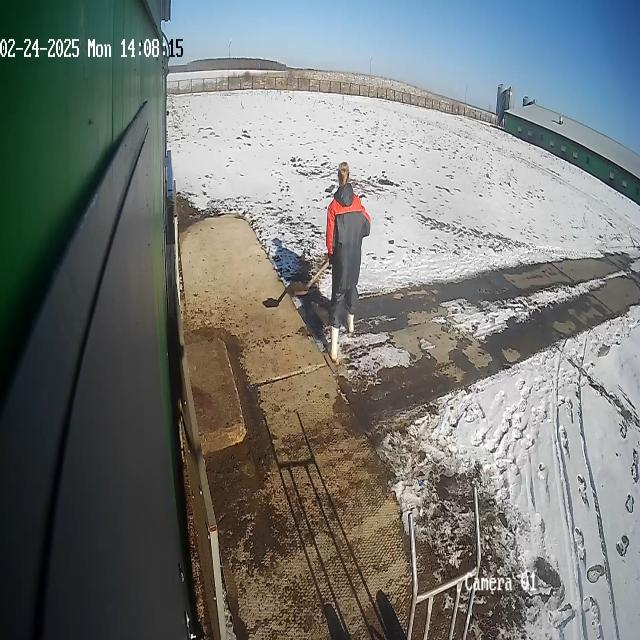Red uniform: (326, 183, 370, 328)
